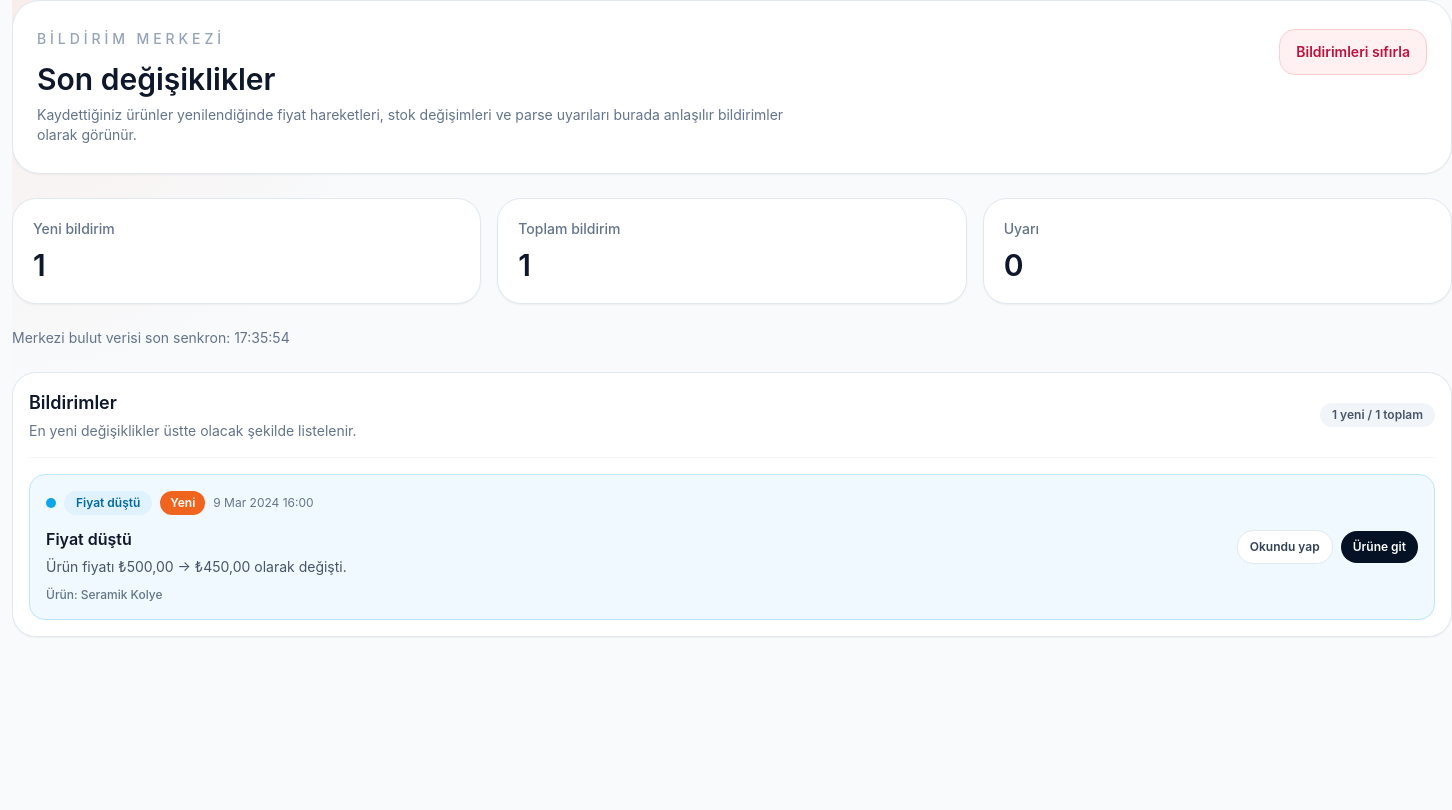
Test: NotificationsPage › lists notifications as rows and marks a notification read when clicked
The image size is (1452, 810).
Expected: the text "Yeni" is shown, [160,491,205,515]
Expected: the text "1 yeni / 1 toplam" is shown, [1320,403,1435,427]
Click the button with aria-label "bildirimini okundu yap" at (108, 503), box [46,491,1225,603]
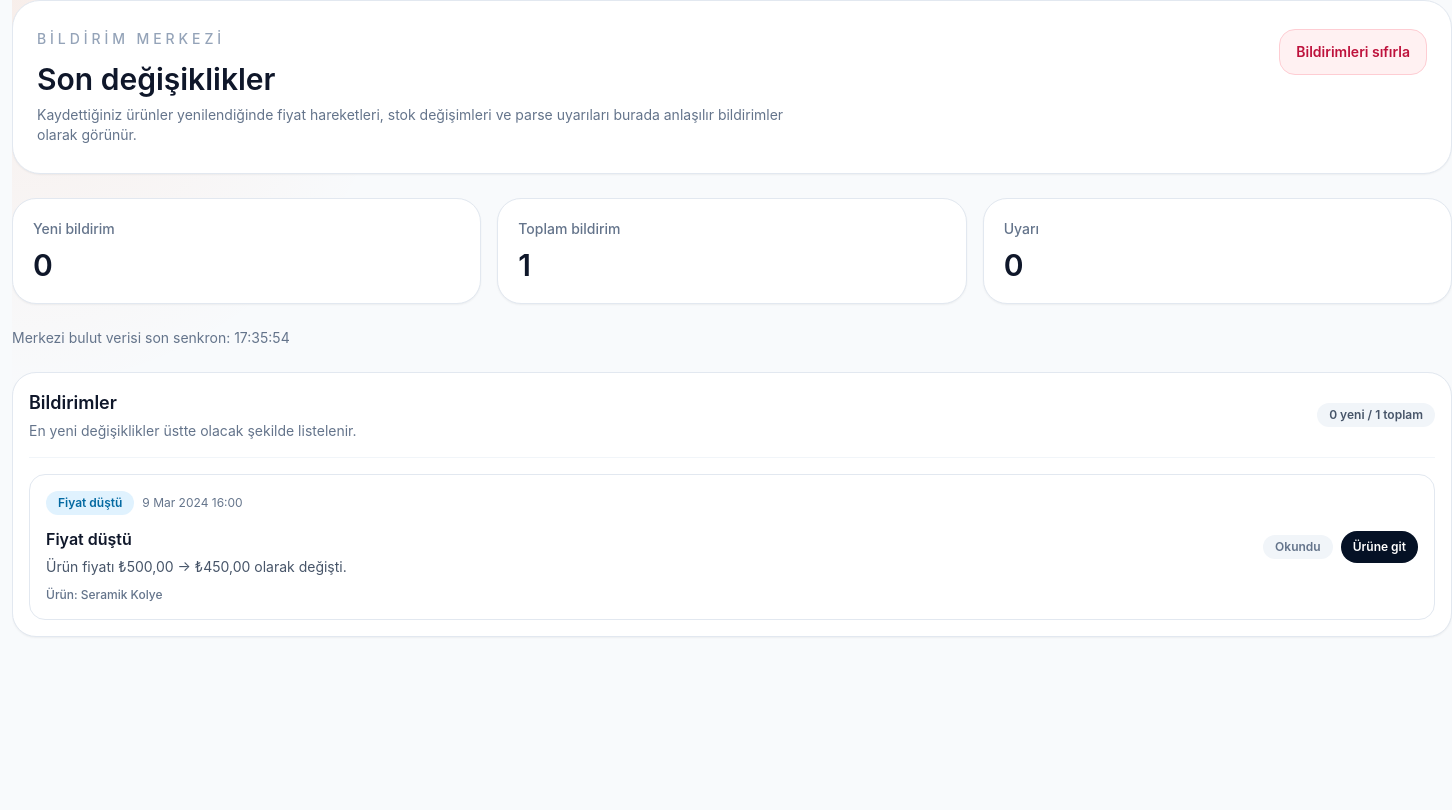
Expected: the text "0 yeni / 1 toplam" is shown, [1317,403,1435,427]
